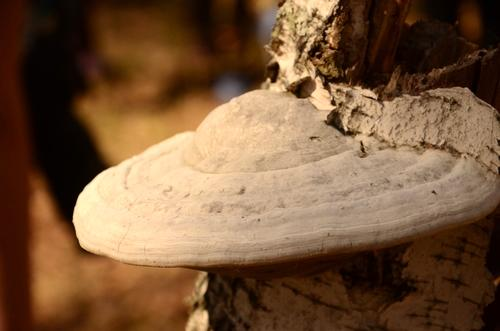Ganoderma - Fruit Body: (66, 75, 500, 270)
